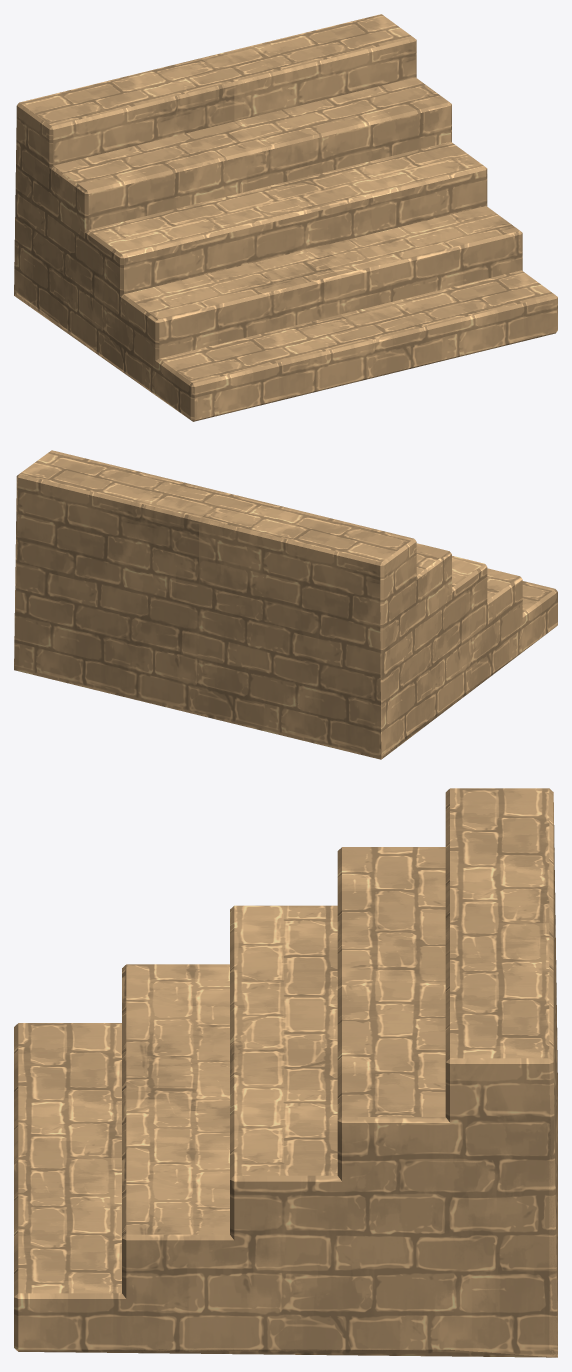
File: stairs.gltf
3 renders of one model, top to bottom at view 1: azimuth 30°, elevation 25°; view 2: azimuth 150°, elevation 25°; view 3: azimuth 270°, elevation 25°, orthographic. The views are drawn at different scales.
Visible parts, largest first — view 1: stairs; view 2: stairs; view 3: stairs.
Part boxes in pixels (x1,y1,x2,y2): stairs: (14, 14, 557, 421); stairs: (14, 450, 557, 759); stairs: (14, 788, 557, 1357).
Size of the model in its own units: 3 by 1.52 by 2.52.
Materials: 1 (1 with a texture image).
